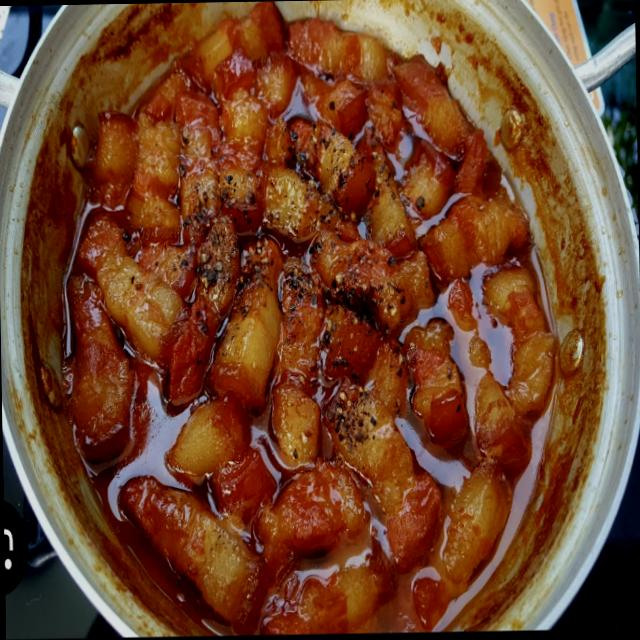kho tieu: (63, 1, 579, 634)
